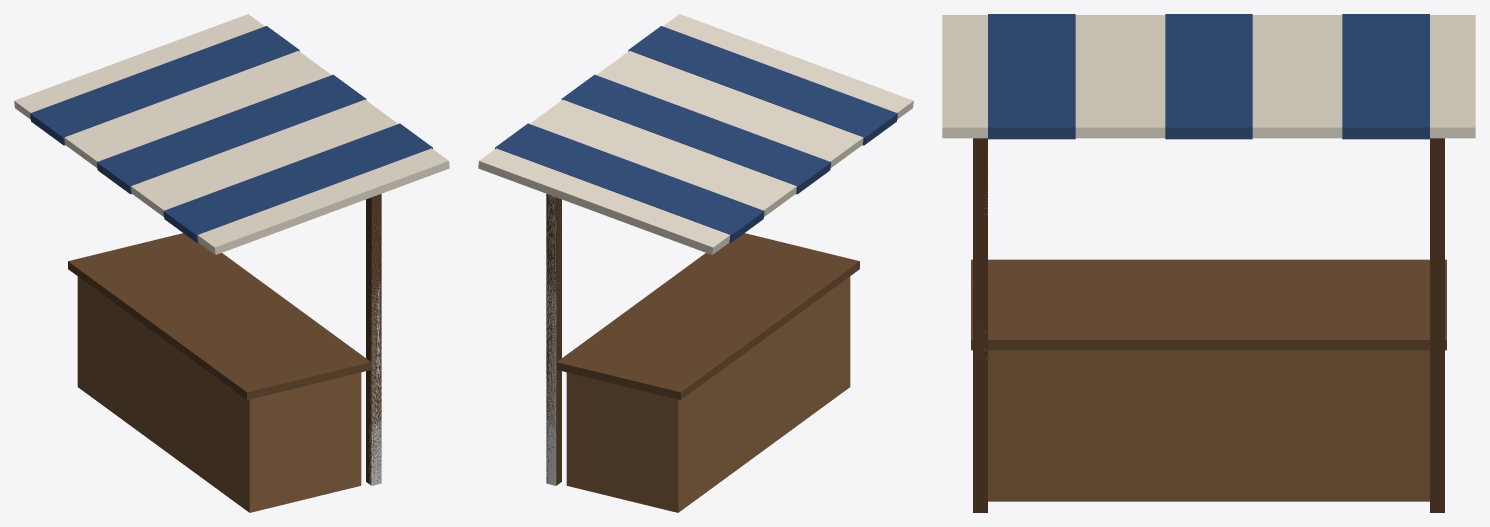
The model's file is market-stall.glb.
3 renders of one model, left to right at view 1: azimuth 30°, elevation 25°; view 2: azimuth 150°, elevation 25°; view 3: azimuth 270°, elevation 25°, orthographic. The views are drawn at different scales.
Parts seen in each view (by area): view 1: 00_#8a6440_r320, 03_#e8e0d0, 04_paint0_noshadow_r320, 01_#6a4a2e_noshadow_r320, 02_#5a3e26_r320, solid.002; view 2: 00_#8a6440_r320, 03_#e8e0d0, 04_paint0_noshadow_r320, 01_#6a4a2e_noshadow_r320, 02_#5a3e26_r320, solid.001; view 3: 00_#8a6440_r320, 01_#6a4a2e_noshadow_r320, 03_#e8e0d0, 04_paint0_noshadow_r320, 02_#5a3e26_r320.
Part boxes in pixels (x1,y1,x2,y2): 00_#8a6440_r320: (77,276,361,512); 03_#e8e0d0: (14,14,449,254); 04_paint0_noshadow_r320: (30,26,432,243); 01_#6a4a2e_noshadow_r320: (68,233,371,399); 02_#5a3e26_r320: (366,194,381,485); solid.002: (369,227,381,485); 00_#8a6440_r320: (566,276,850,512); 03_#e8e0d0: (478,14,913,254); 04_paint0_noshadow_r320: (495,26,897,243); 01_#6a4a2e_noshadow_r320: (556,233,859,399); 02_#5a3e26_r320: (546,194,561,485); solid.001: (546,195,556,485); 00_#8a6440_r320: (988,350,1429,501); 01_#6a4a2e_noshadow_r320: (971,259,1446,350); 03_#e8e0d0: (942,15,1475,138); 04_paint0_noshadow_r320: (988,14,1429,139); 02_#5a3e26_r320: (973,138,1444,512).
Size of the model in its own units: 1.91 by 2.45 by 2.8.
